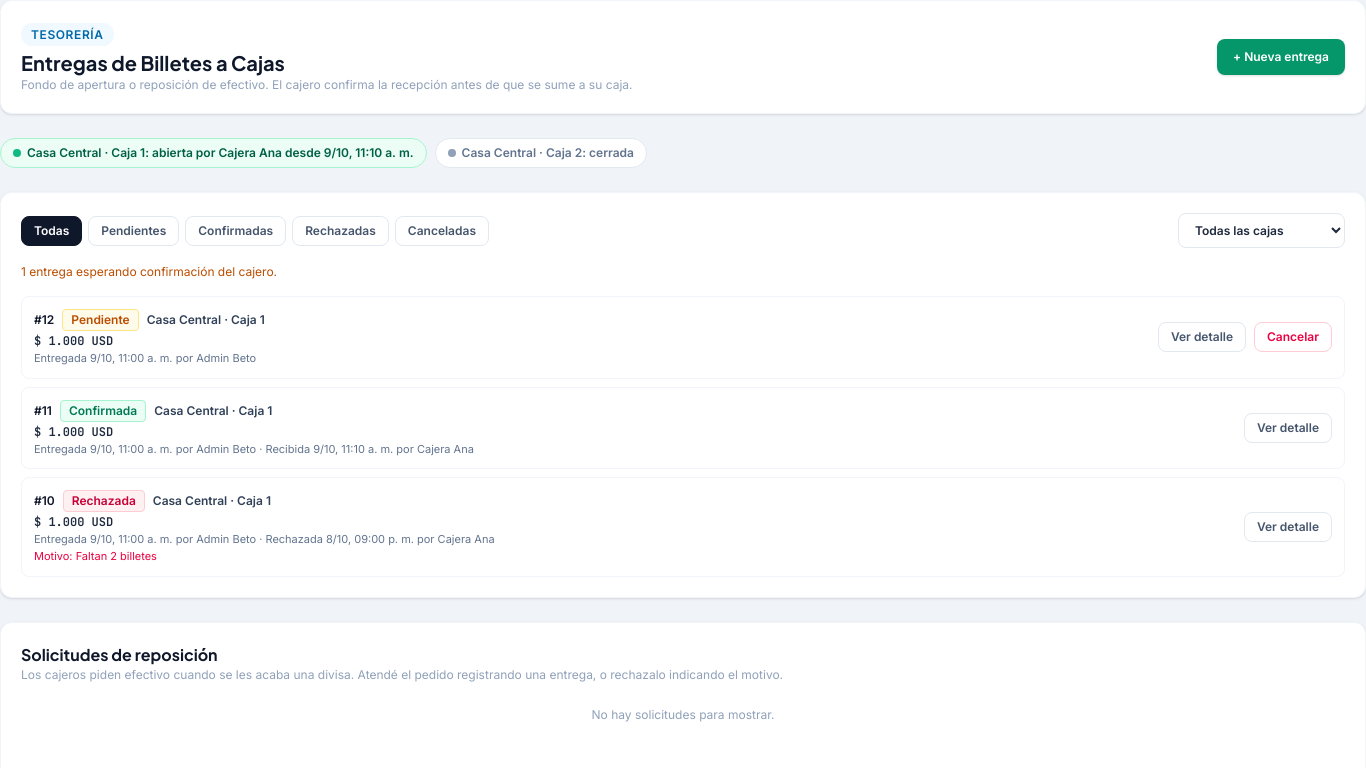
Test case: CashDeliveries (PI-43) › PI-79: avisa si la entrega abre la caja o es una reposición
This screenshot has width=1366, height=768.
Expected: the text "#12" is shown, [34, 312, 54, 328]
Click the button "+ Nueva entrega" at (1281, 57), box [1217, 39, 1345, 75]
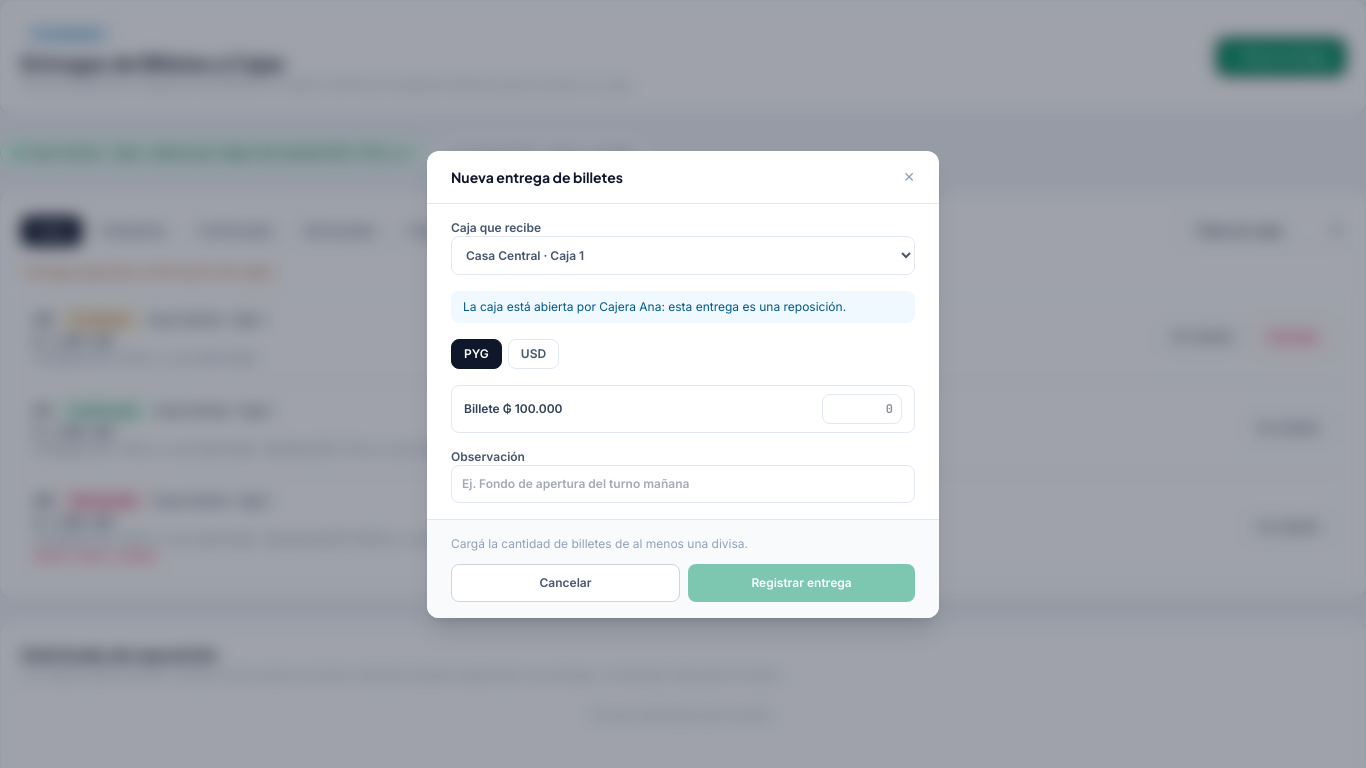
Expected: the text "abierta por Cajera Ana: esta entrega es una reposición" is shown, [463, 298, 846, 314]
Select "Casa Central · Caja 2" in the dropdown labelled "Caja que recibe" at (683, 255), box [451, 236, 915, 274]
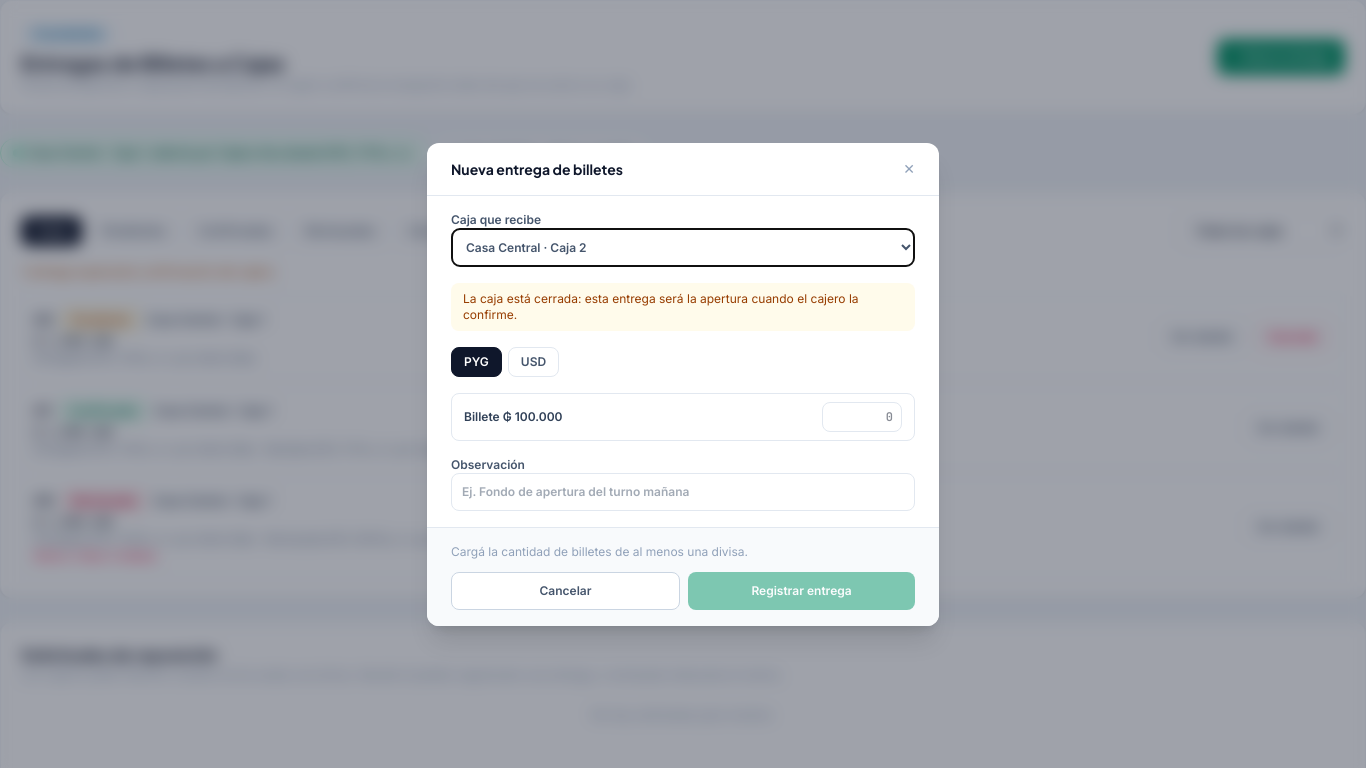
Expected: the text "cerrada: esta entrega será la apertura" is shown, [463, 290, 859, 322]
